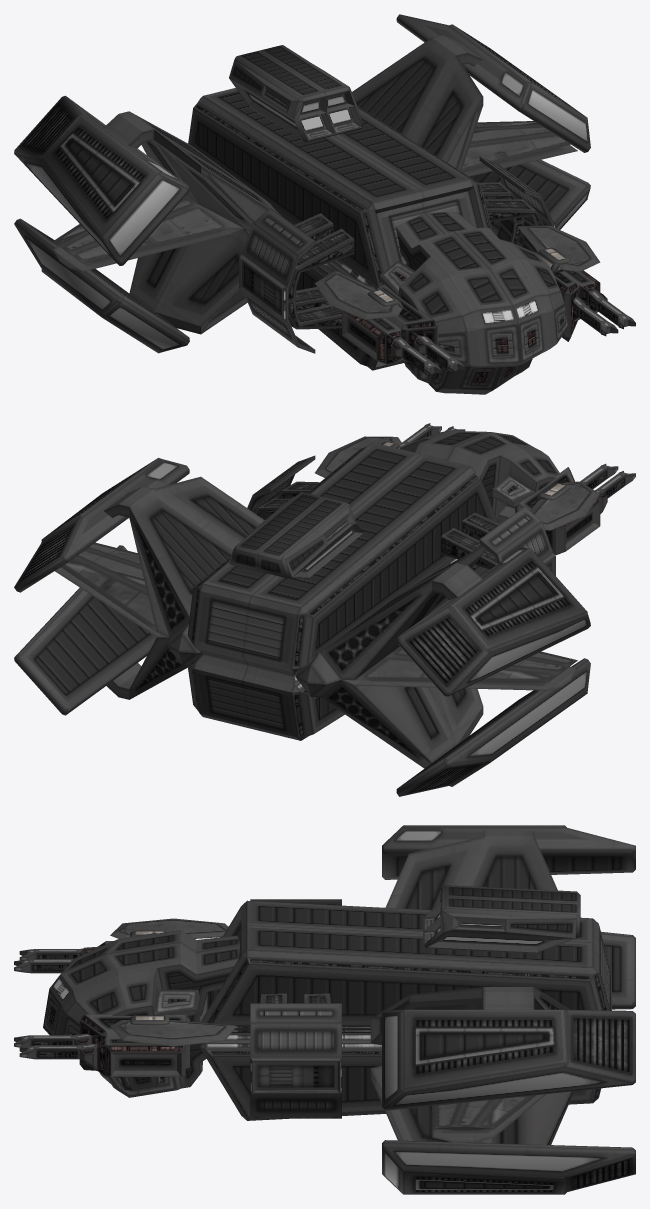
The model's file is omegaisTioFighterA.FBX.
The picture shows the model from 3 angles, top to bottom: view 1: azimuth 30°, elevation 25°; view 2: azimuth 150°, elevation 25°; view 3: azimuth 270°, elevation 25°; orthographic projection.
Parts seen in each view (by area): view 1: FighterA; view 2: FighterA; view 3: FighterA.
Boxes of the visible parts, left/top/right/bottom form: FighterA: left=14, top=14, right=635, bottom=394; FighterA: left=14, top=423, right=635, bottom=796; FighterA: left=14, top=825, right=635, bottom=1194.
Bounding box in the file's own units: 465 × 490 × 184.
